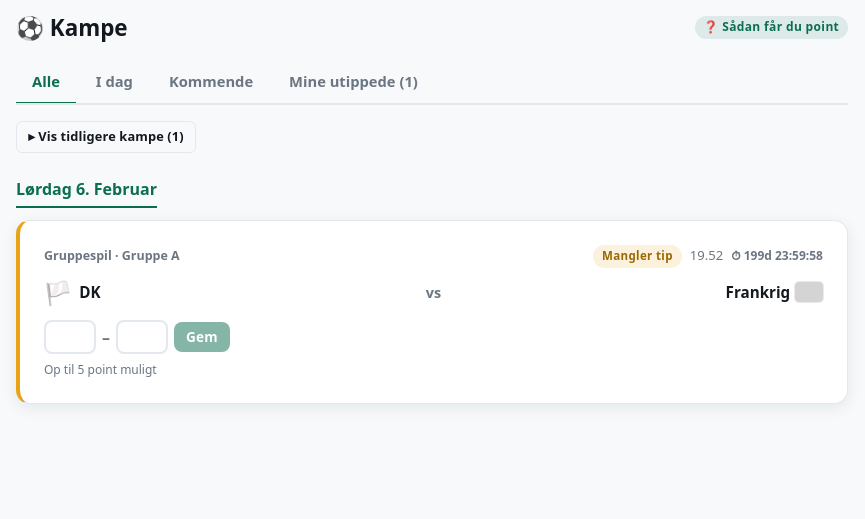
Test: MatchesPage – filtre › filter "Alle" viser kampe igen efter at have skiftet filter
Click the button with test id "filter-kommende".
click(211, 83)  # box [153,61,269,105]
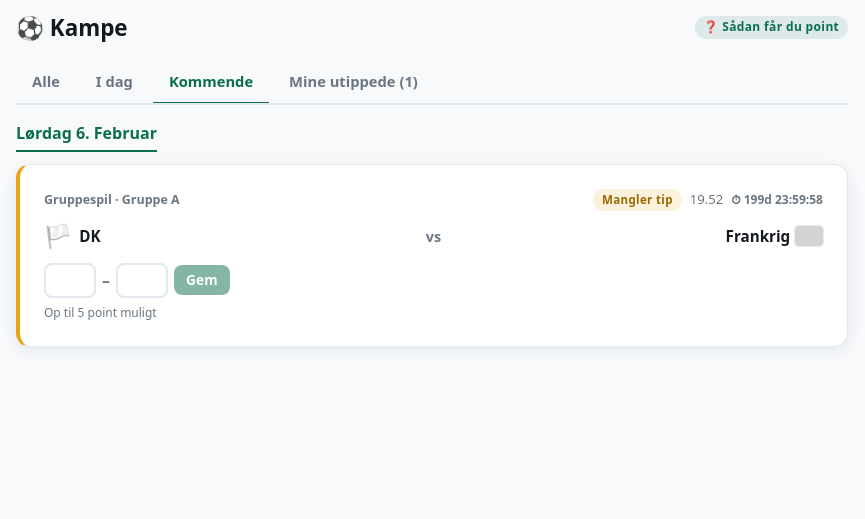
expect the number of elements with test id "match-card" is 1: met, box [16,164,848,347]
Click the button with test id "filter-alle".
click(46, 83)  # box [16,61,76,105]
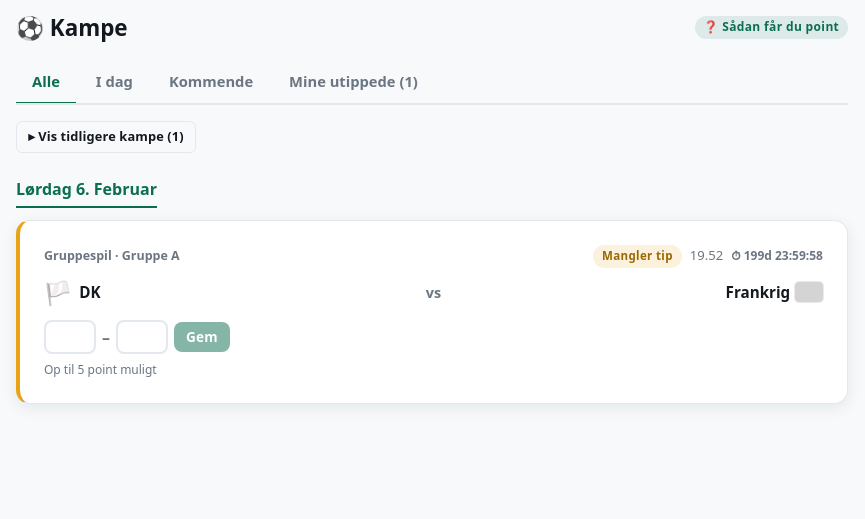
expect the number of elements with test id "match-card" is 1: met, box [16,220,848,404]
Click the button with test id "toggle-past".
click(106, 137)  # box [16,121,196,153]
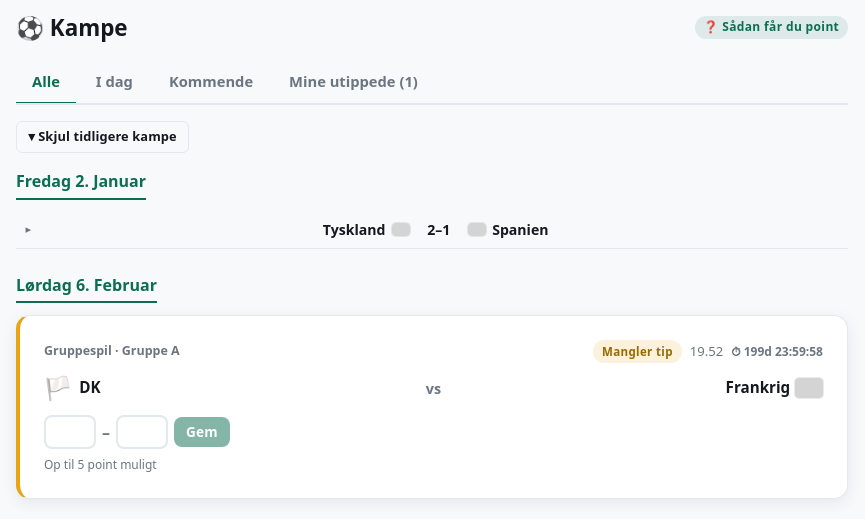
expect the number of elements with test id "match-card" is 1: met, box [16,315,848,499]
expect the button with test id "match-row-compact" is shown: met, box [16,212,848,248]
